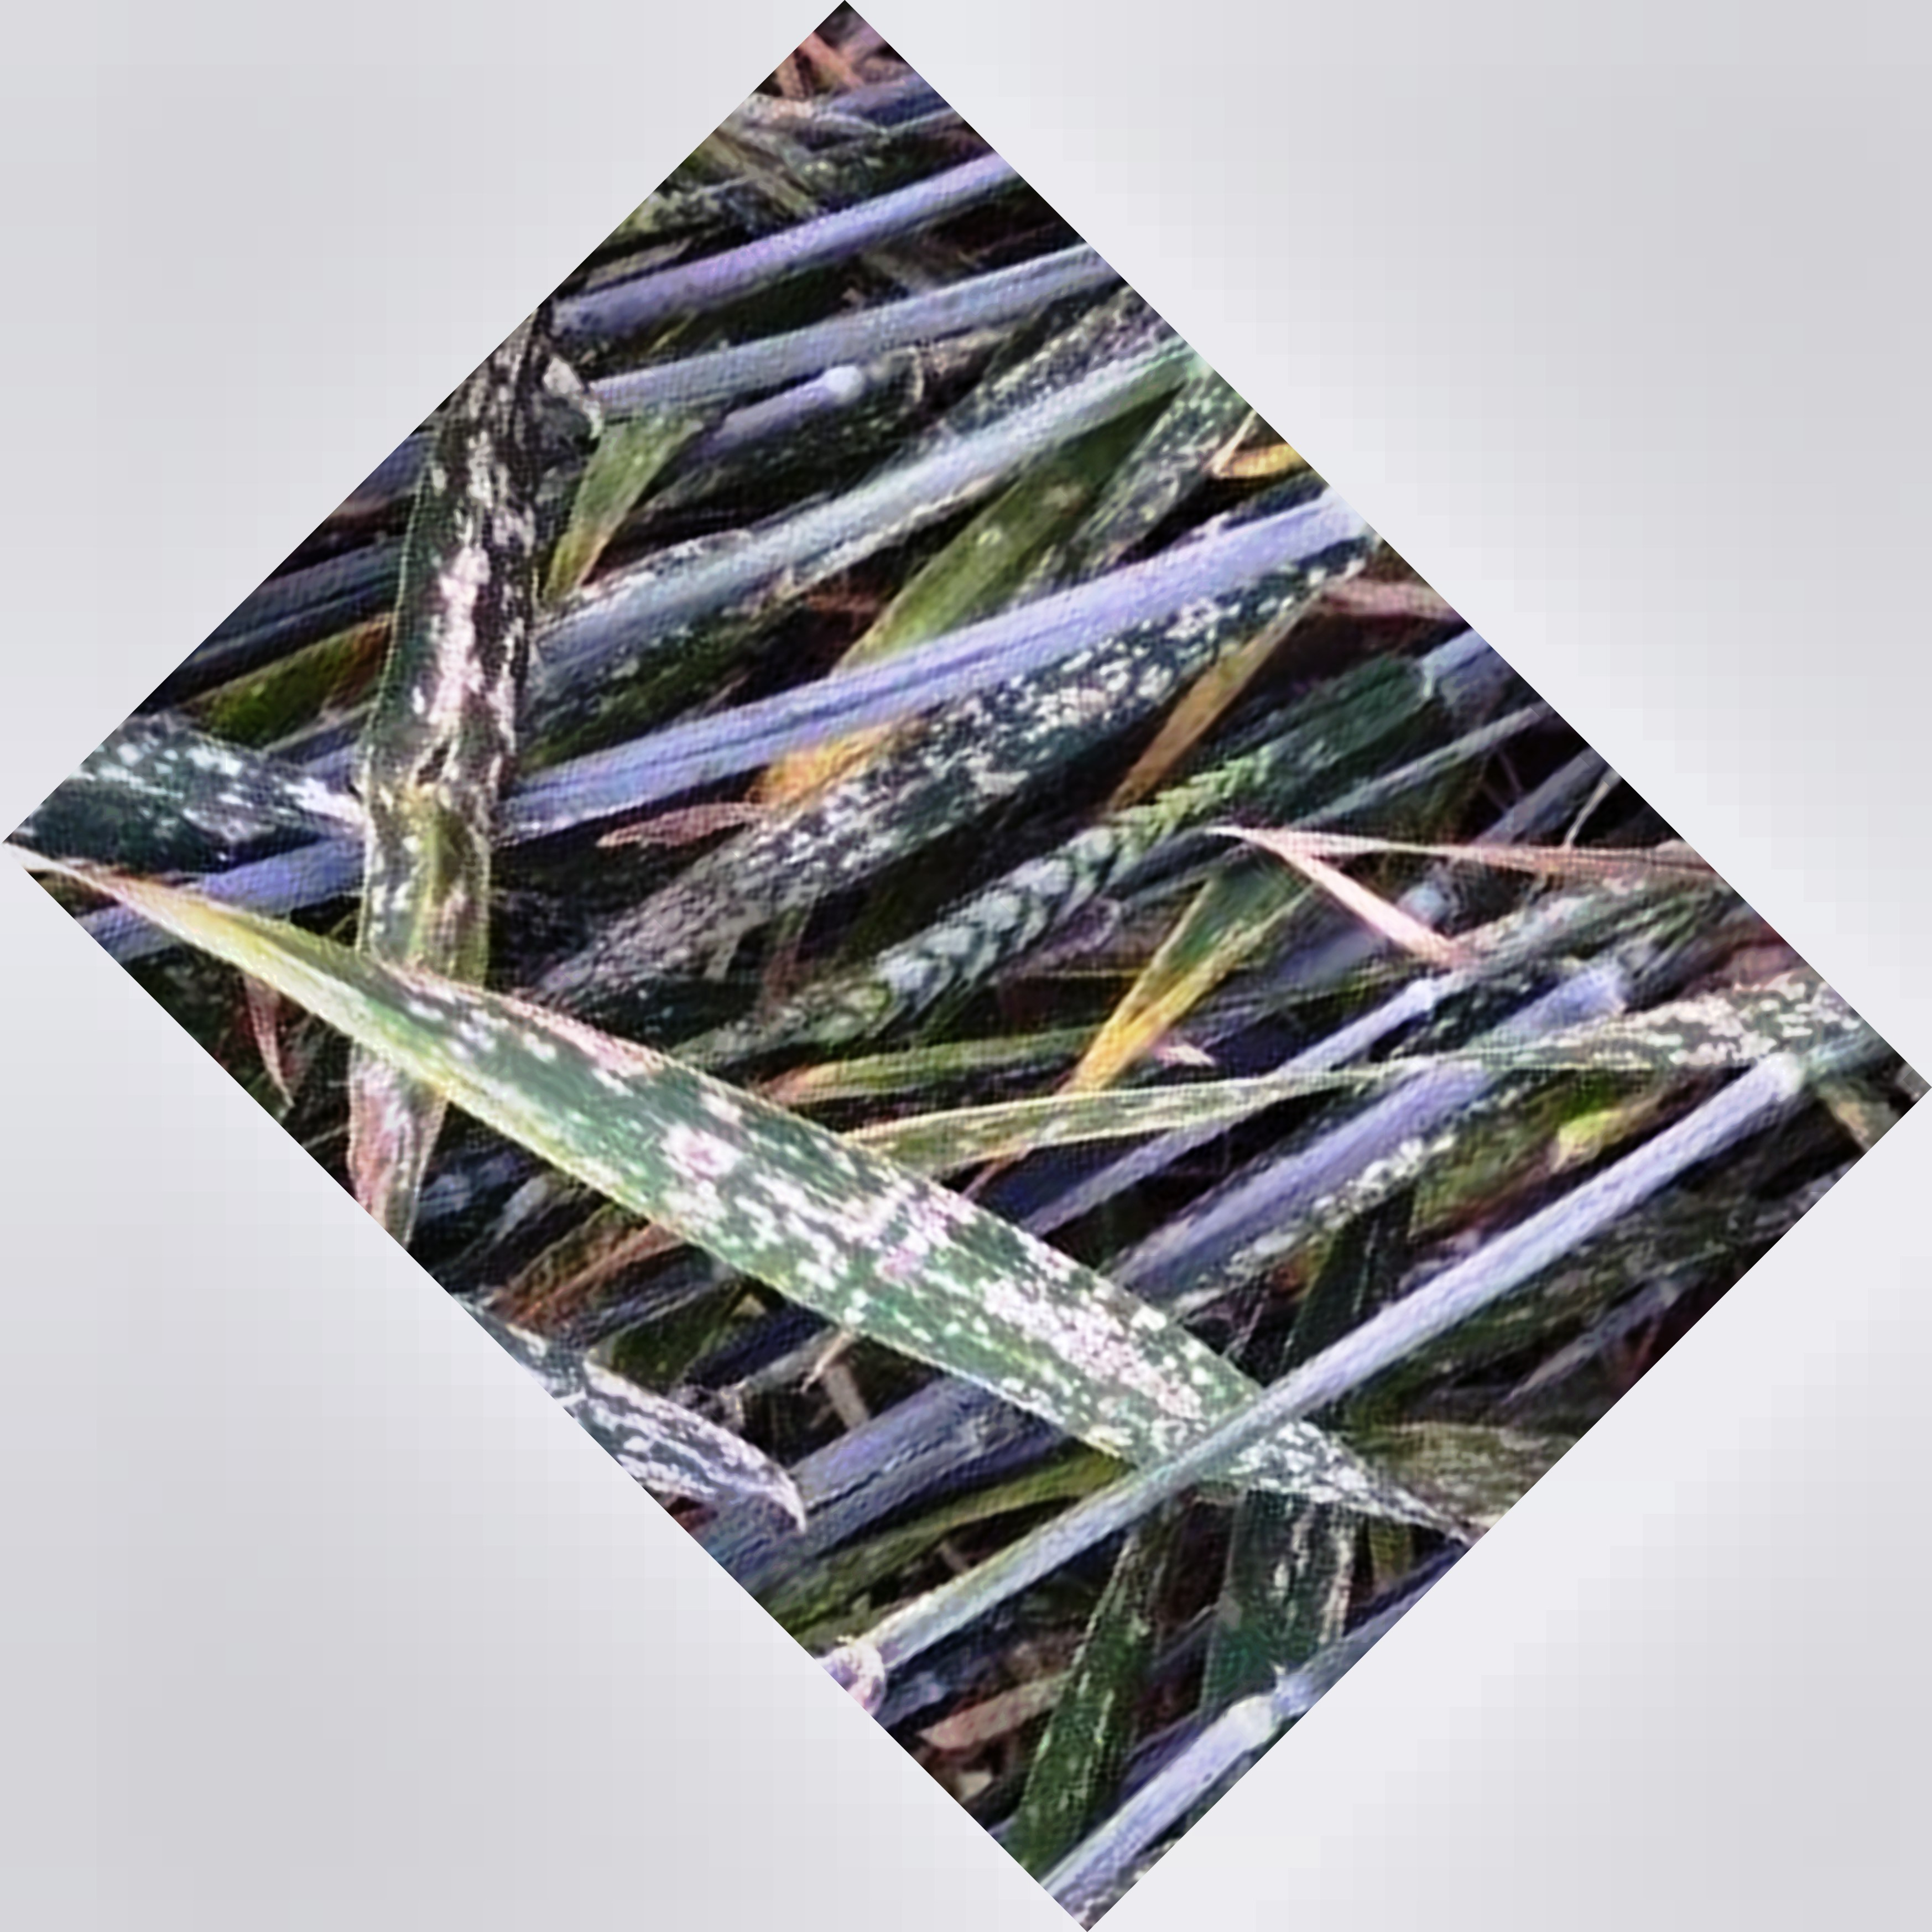Powdery Mildew: (593, 1060, 1385, 1513)
